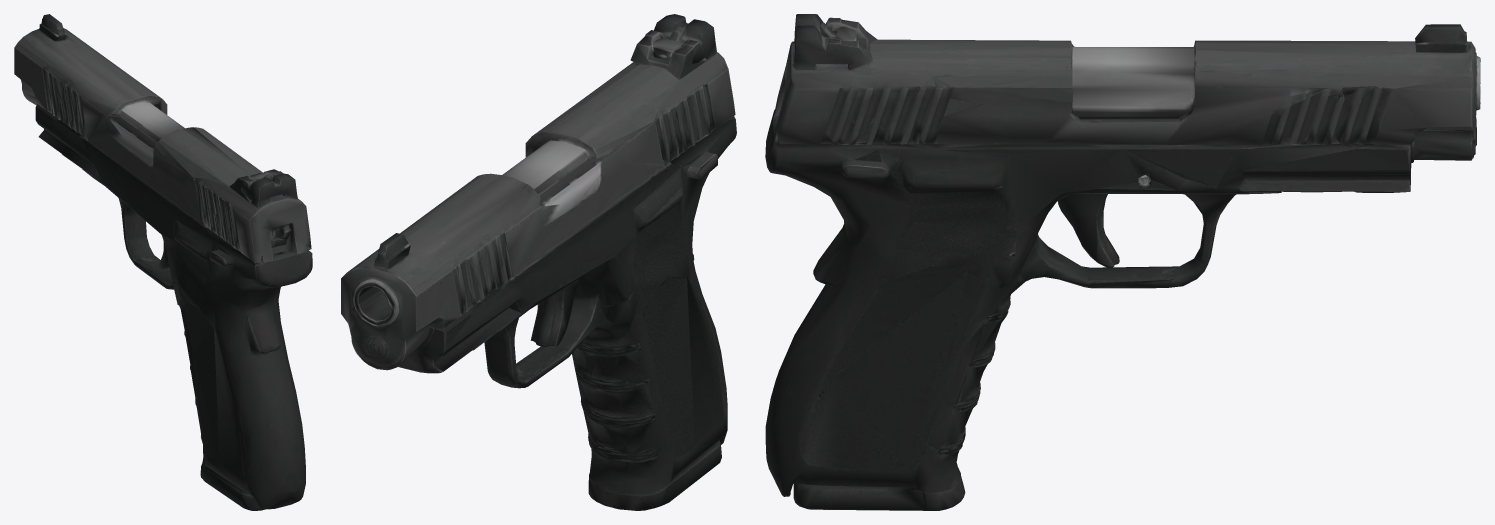
File: pi_warden.glb
3 renders of one model, left to right at view 1: azimuth 30°, elevation 25°; view 2: azimuth 150°, elevation 25°; view 3: azimuth 270°, elevation 25°, orthographic. The views are drawn at different scales.
Parts seen in each view (by area): view 1: pi_warden; view 2: pi_warden; view 3: pi_warden.
Boxes of the visible parts, x1=… form: pi_warden: x1=14, y1=14, x2=312, y2=510; pi_warden: x1=341, y1=14, x2=736, y2=510; pi_warden: x1=765, y1=14, x2=1480, y2=510.
Size of the model in its own units: 0.0339 by 0.1378 by 0.19.
Materials: 1 (1 with a texture image).
